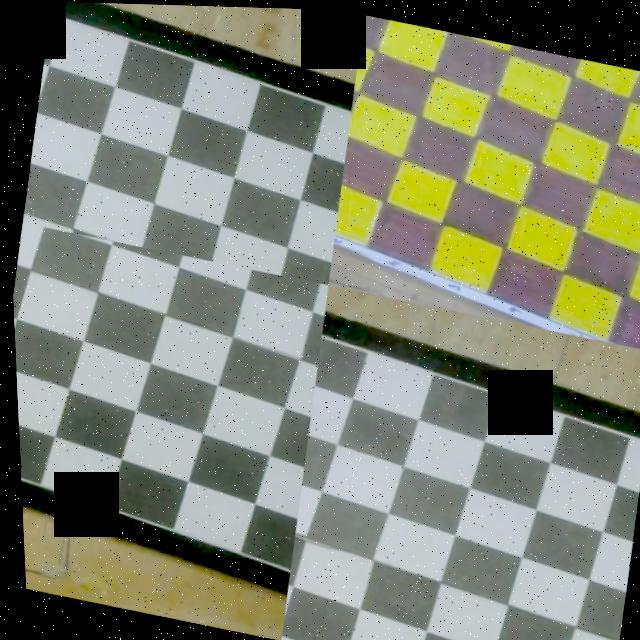chess-table-corners: (281, 566, 285, 572), (346, 112, 350, 117), (310, 277, 316, 280), (636, 458, 638, 463)
